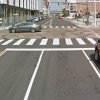crosswalk: (0, 38, 100, 45), (41, 25, 77, 28)
